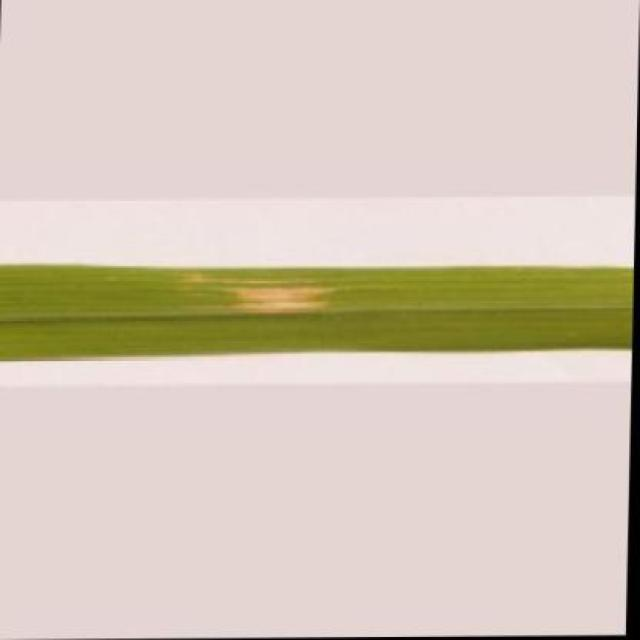Brown_Spot: (0, 255, 635, 362)
